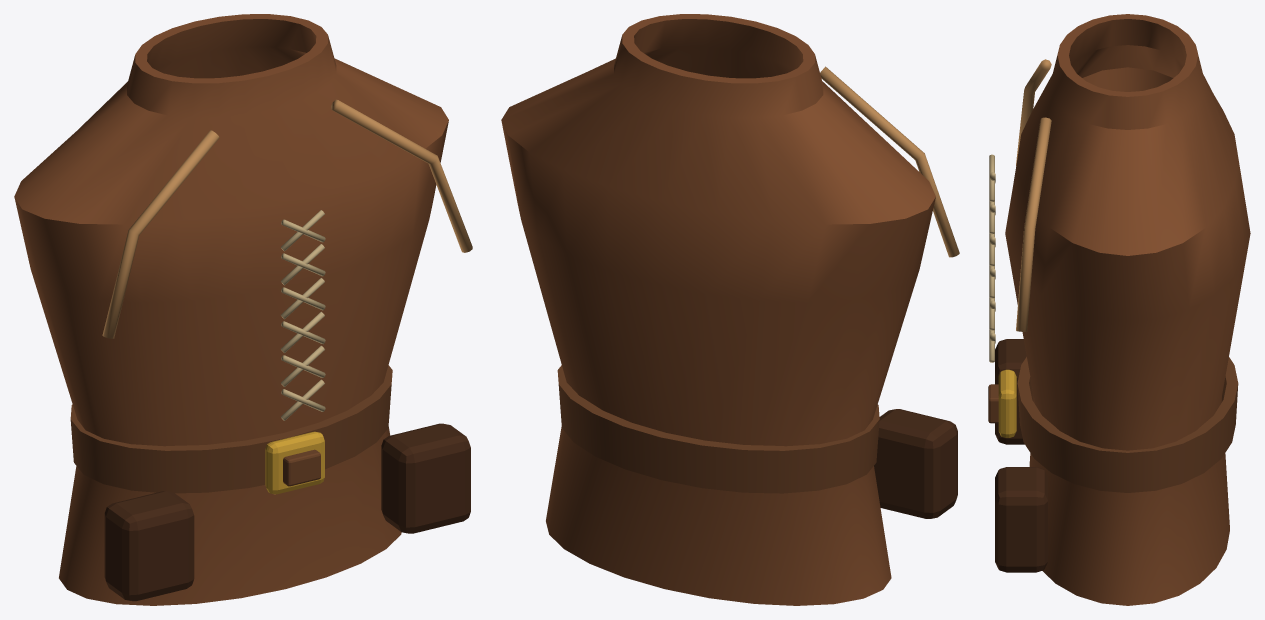
The model's file is garb_leather.fbx.
3 views of the same model, side by side, from view 1: azimuth 30°, elevation 25°; view 2: azimuth 150°, elevation 25°; view 3: azimuth 270°, elevation 25° (orthographic). The views are drawn at different scales.
Parts seen in each view (by area): view 1: garb_leather; view 2: garb_leather; view 3: garb_leather.
Boxes of the visible parts, x1=… form: garb_leather: x1=14, y1=14, x2=472, y2=605; garb_leather: x1=501, y1=14, x2=959, y2=605; garb_leather: x1=988, y1=14, x2=1250, y2=605.
Bounding box in the file's own units: 0.56 × 0.64 × 0.3205.
